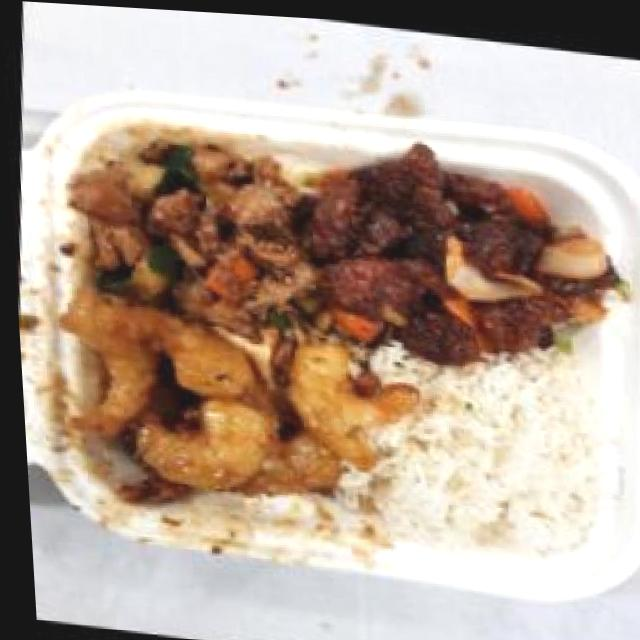Beijing Beef: (288, 128, 619, 366)
Honey Walnut Shrimp: (40, 286, 399, 522)
Kung Pao Chicken: (47, 117, 335, 345)
White Steamed Rice: (355, 336, 615, 565)
